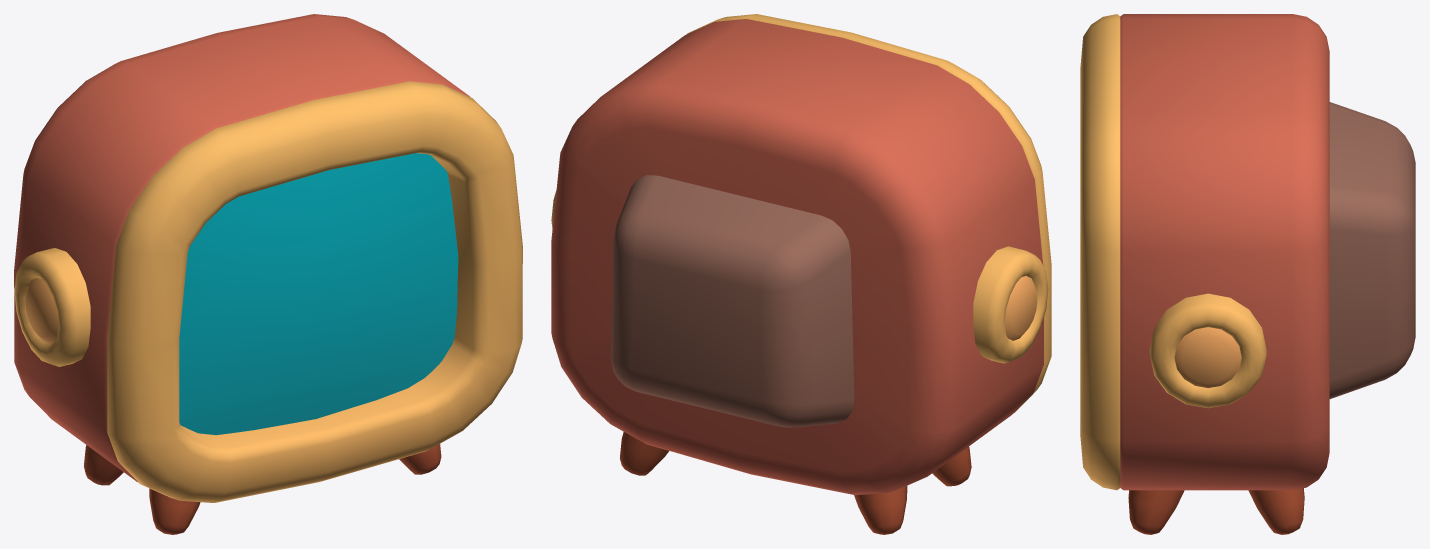
The picture shows the model from 3 angles, left to right: view 1: azimuth 30°, elevation 25°; view 2: azimuth 150°, elevation 25°; view 3: azimuth 270°, elevation 25°; orthographic projection.
Visible parts, largest first — view 1: TV_04; view 2: TV_04; view 3: TV_04.
Part boxes in pixels (x1,y1,x2,y2): TV_04: (14, 14, 522, 534); TV_04: (551, 14, 1051, 534); TV_04: (1080, 14, 1415, 534).
Size of the model in its own units: 0.4991 by 0.4329 by 0.3194.
1 material, 1 textured.
